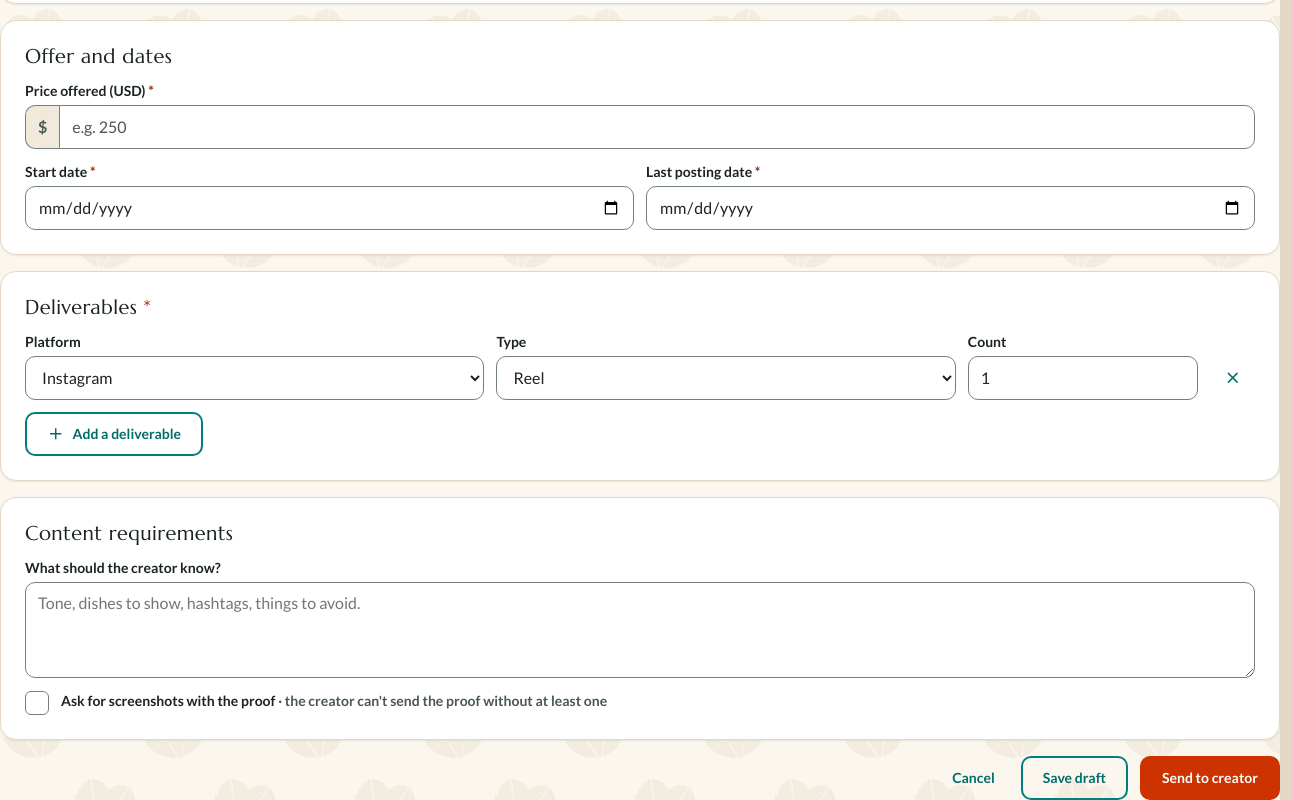
it: highlights every field the server refuses, with a message under it and a banner, and stays on the form
(page scrolled)
Click the button "Send to creator" at (1210, 778), box x1=1140 y1=756 x2=1280 y2=799
(page scrolled)
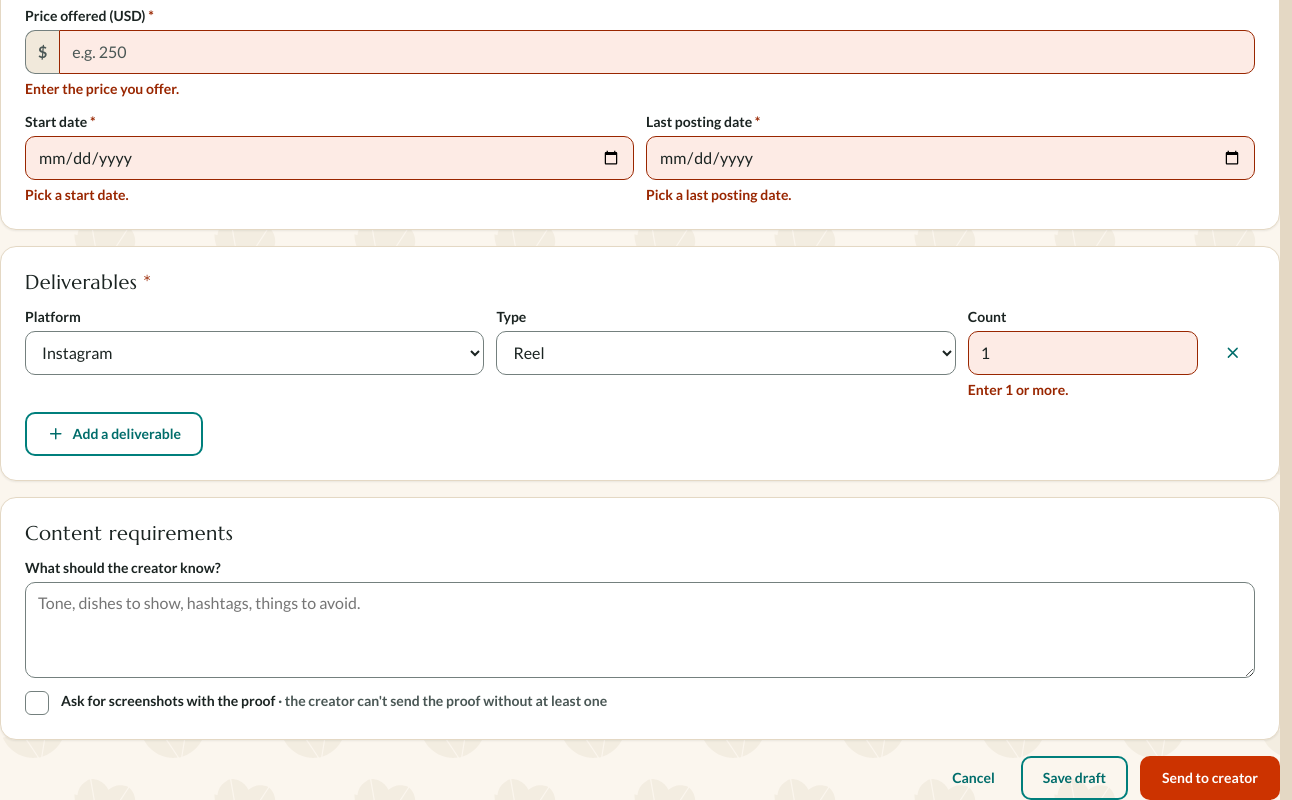
Expected: the text "Enter the price you offer." is shown, x1=25 y1=80 x2=179 y2=97
Expected: the text "Pick a start date." is shown, x1=25 y1=186 x2=129 y2=203
Expected: the text "Pick a last posting date." is shown, x1=646 y1=186 x2=792 y2=203
